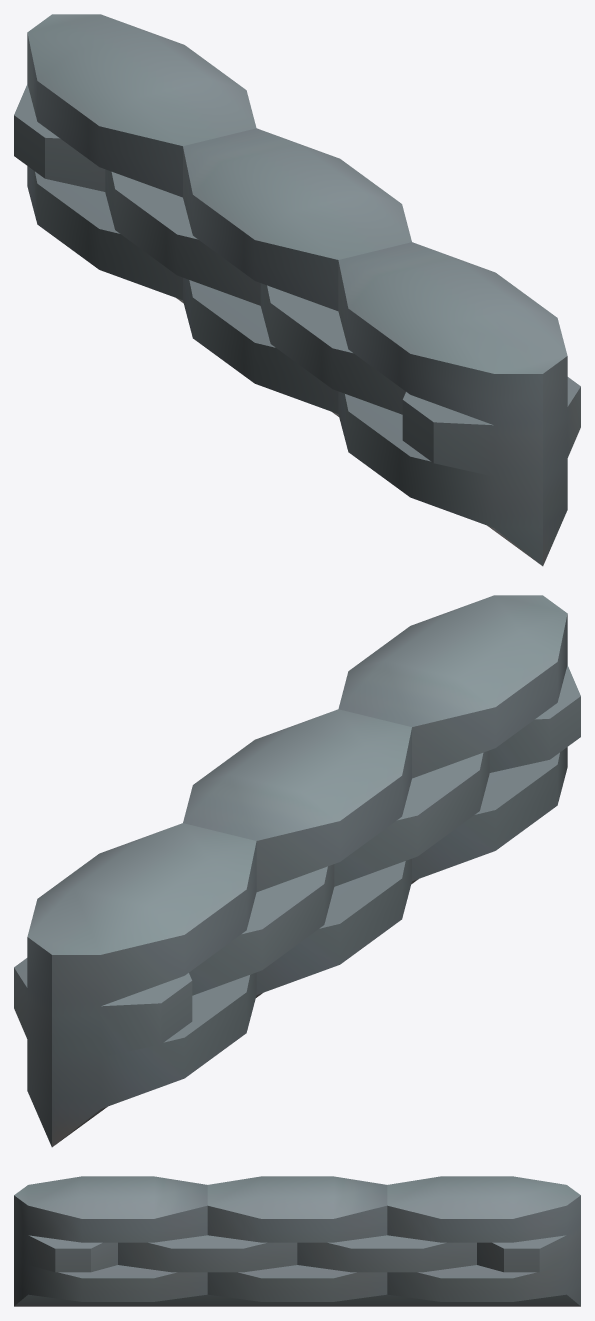
The model's file is fence_stone_straight.glb.
3 renders of one model, top to bottom at view 1: azimuth 30°, elevation 25°; view 2: azimuth 150°, elevation 25°; view 3: azimuth 270°, elevation 25°, orthographic. The views are drawn at different scales.
Visible parts, largest first — view 1: fence_stone_straight; view 2: fence_stone_straight; view 3: fence_stone_straight.
Boxes of the visible parts, x1,y1,x2,y2 form: fence_stone_straight: (14, 14, 580, 566); fence_stone_straight: (14, 595, 580, 1147); fence_stone_straight: (14, 1176, 580, 1306).
Bounding box in the file's own units: 0.2 × 0.269 × 1.15.
1 material, 1 textured.
